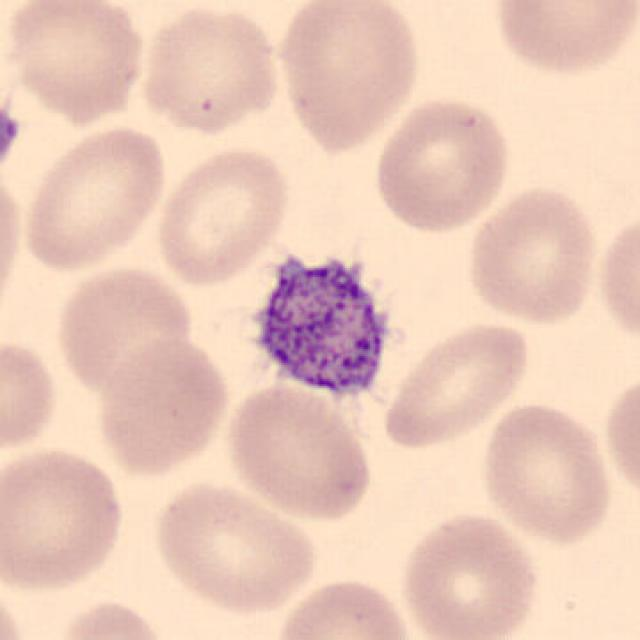Platelets: (233, 234, 407, 418), (0, 99, 23, 174)
RBC: (148, 476, 322, 617), (220, 374, 377, 524), (272, 0, 423, 155), (20, 122, 170, 275), (379, 316, 533, 452), (476, 398, 617, 546), (151, 143, 293, 289), (370, 94, 516, 236), (460, 182, 601, 328), (135, 2, 285, 138), (91, 333, 231, 478), (0, 442, 130, 596), (51, 263, 196, 397), (396, 509, 543, 640), (2, 0, 149, 125), (487, 0, 638, 79), (272, 573, 418, 640), (0, 331, 62, 462), (594, 206, 638, 353), (52, 594, 174, 640), (601, 368, 640, 506), (0, 164, 27, 324), (0, 573, 30, 640)
